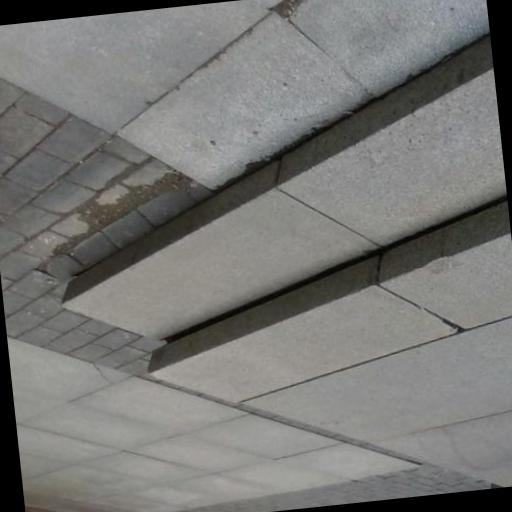stairs: (64, 34, 511, 466)
